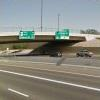Bridge: (4, 16, 88, 48)
